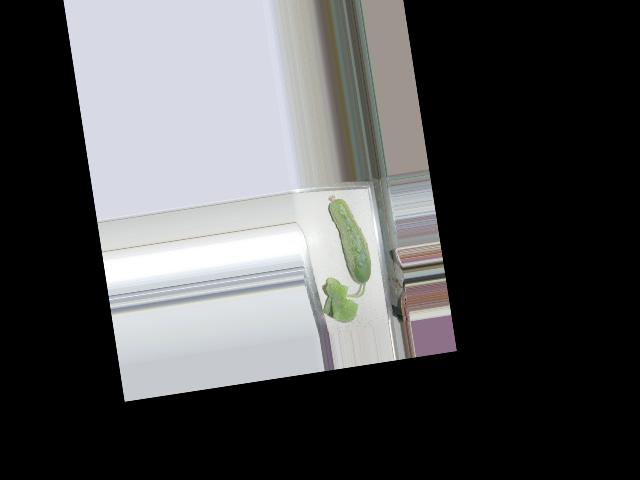cucumber: (326, 190, 374, 288)
